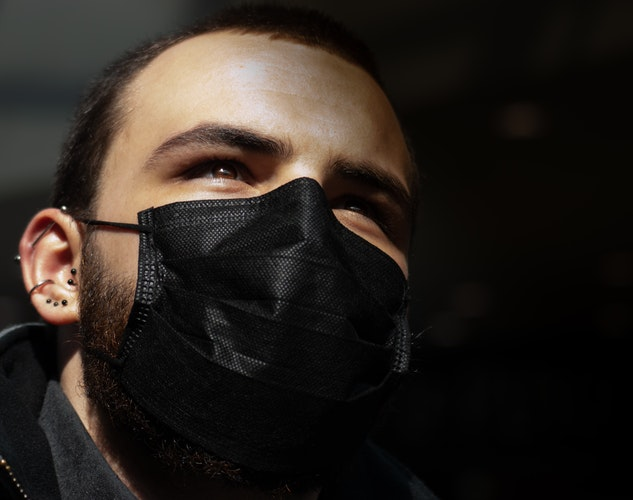mask: (132, 211, 406, 433)
